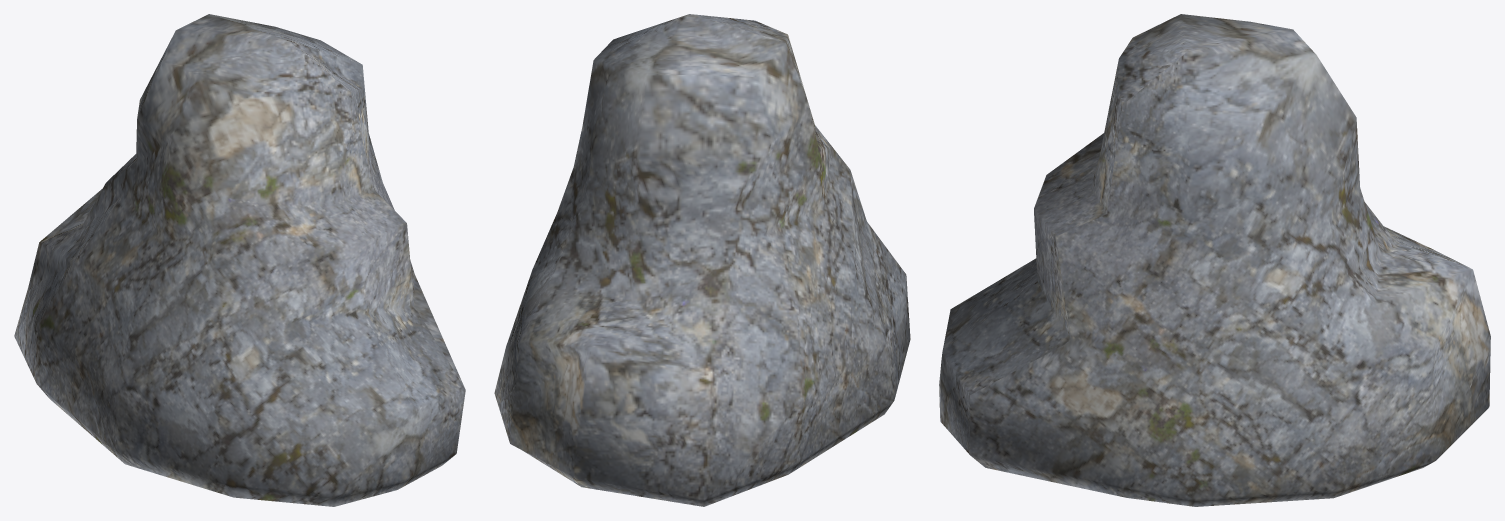
Rendered from GardenStone02.fbx.
3 renders of one model, left to right at view 1: azimuth 30°, elevation 25°; view 2: azimuth 150°, elevation 25°; view 3: azimuth 270°, elevation 25°, orthographic. The views are drawn at different scales.
Parts seen in each view (by area): view 1: GardenStone02; view 2: GardenStone02; view 3: GardenStone02.
Part boxes in pixels (x1=…): GardenStone02: x1=14, y1=14, x2=465, y2=506; GardenStone02: x1=494, y1=14, x2=910, y2=506; GardenStone02: x1=939, y1=14, x2=1490, y2=506.
Size of the model in its own units: 132 by 141 by 183.
